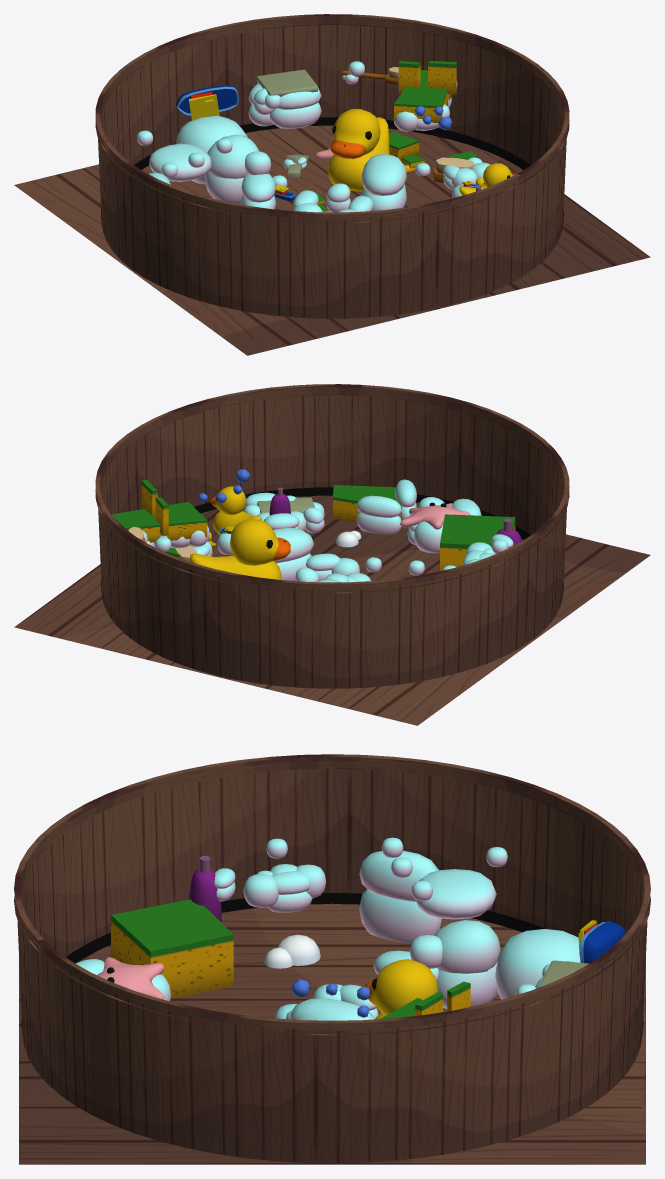
File: EscenarioEXPORT.fbx
The picture shows the model from 3 angles, top to bottom: view 1: azimuth 30°, elevation 25°; view 2: azimuth 150°, elevation 25°; view 3: azimuth 270°, elevation 25°; orthographic projection. The views are drawn at different scales.
Parts seen in each view (by area): view 1: Tarro madera, Suelo, Borde valde, Patito.001, Espuma doble circular.005, Espuma alargada.006, Aro metal, Barquito.003, Espuma circular.010, Espuma alargada.017, Espuma circular.021, Esponja.009 (+9 smaller); view 2: Tarro madera, Suelo, Borde valde, Patito.001, Esponja.008, Esponja.009, Espuma alargada.010, Esponja.012, Espuma alargada.006, Patito.003, Aro metal, Estrella.002 (+3 smaller); view 3: Tarro madera, Suelo, Borde valde, Esponja.008, Espuma alargada.015, Espuma doble circular.005, Espuma circular.010, Espuma circular.021, Patito.001, Aro metal, Estrella.002, Espuma alargada.006 (+10 smaller).
Part boxes in pixels (x1,y1,x2,y2): Tarro madera: (98,25,567,318); Suelo: (14,125,650,355); Borde valde: (95,14,569,223); Patito.001: (327,109,389,191); Espuma doble circular.005: (205,134,258,204); Espuma alargada.006: (361,154,406,210); Aro metal: (101,117,563,237); Barquito.003: (176,85,238,120); Espuma circular.010: (176,115,247,184); Espuma alargada.017: (269,88,321,128); Espuma circular.021: (149,143,211,181); Esponja.009: (394,70,451,122); Tarro madera: (97,395,566,688); Suelo: (14,495,650,725); Borde valde: (95,384,569,593); Patito.001: (190,519,290,579); Esponja.008: (440,514,515,571); Esponja.009: (111,502,207,542); Espuma alargada.010: (356,495,401,534); Esponja.012: (333,485,401,529); Espuma alargada.006: (273,528,313,581); Patito.003: (210,486,261,535); Aro metal: (101,487,563,607); Estrella.002: (400,502,470,529); Tarro madera: (17,769,647,1163); Suelo: (19,904,645,1164); Borde valde: (14,754,650,1035); Esponja.008: (111,899,233,998); Espuma alargada.015: (359,850,441,943); Espuma doble circular.005: (434,920,500,1008); Espuma circular.010: (495,929,580,999); Espuma circular.021: (415,869,496,919); Patito.001: (364,959,438,1019); Aro metal: (21,893,643,1060); Estrella.002: (97,957,164,999); Espuma alargada.006: (289,998,374,1020).
Size of the model in its own units: 20315 by 5698 by 20315.
